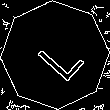L_NW: (26, 26, 84, 84)
